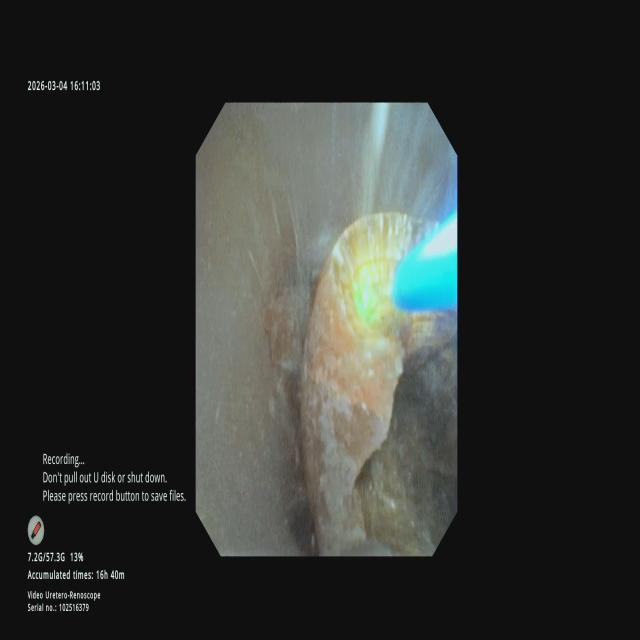laser_dot: (352, 267, 382, 326)
stone-new: (300, 212, 454, 554), (263, 286, 304, 374)
